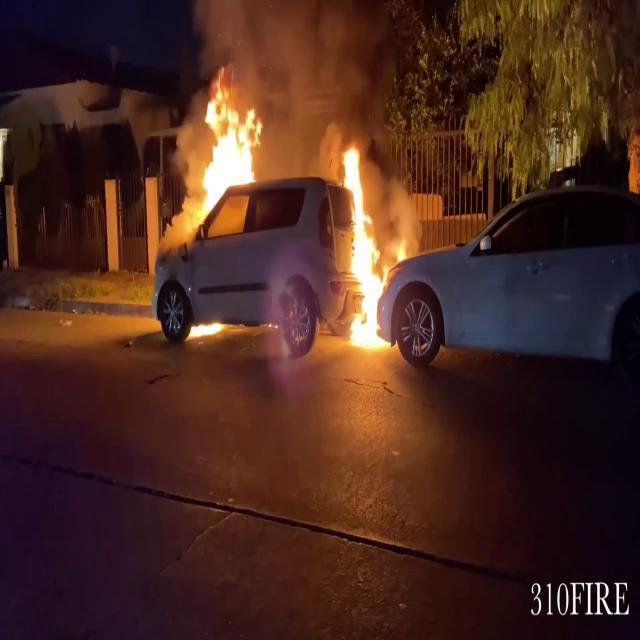Fire: (181, 73, 267, 228), (337, 138, 390, 352)
Smoke: (184, 0, 403, 149)
